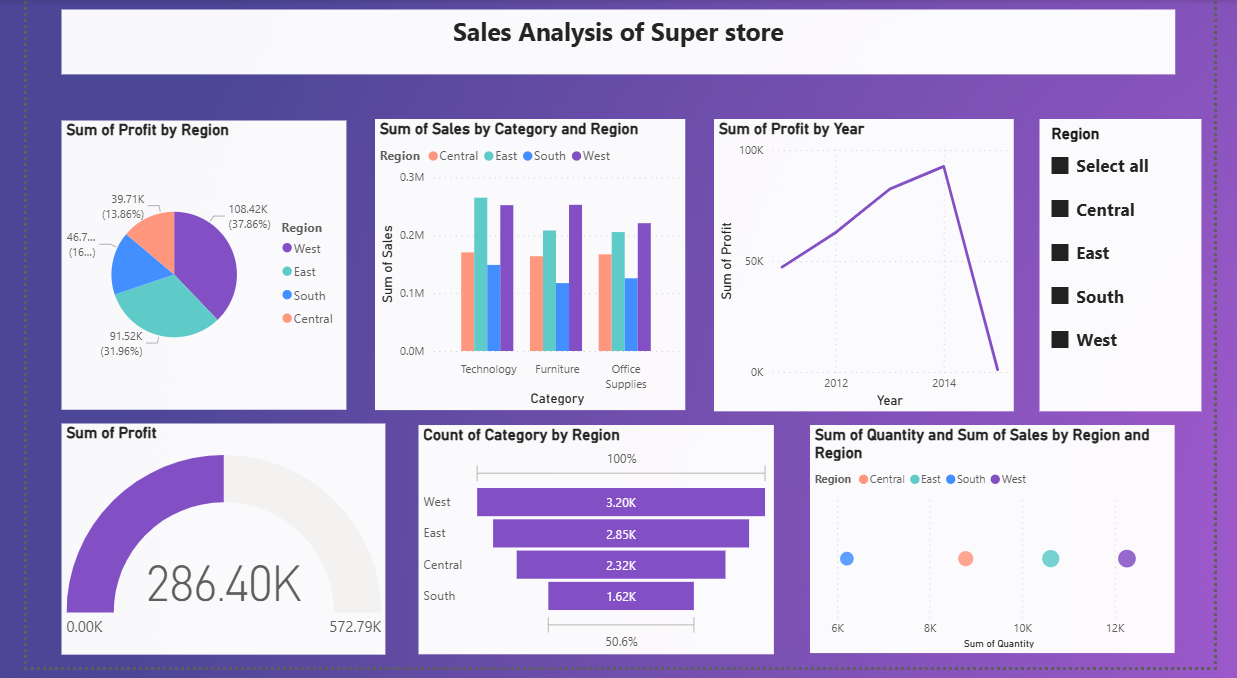

Layout of this report page (visuals, bound fields, positions):
{"tool":"powerbi","page":{"name":"Page 1","canvas":[1280,720],"ordinal":0},"visuals":[{"type":"pieChart","fields":{"Y":["Sum(Orders.Profit)"],"Category":["Orders.Region"]},"box":[37.2,131.1,307.4,312.3],"z":0},{"type":"clusteredColumnChart","fields":{"Category":["Orders.Category"],"Y":["Sum(Orders.Sales)"],"Series":["Orders.Region"]},"box":[375.4,129.4,334.9,313.9],"z":1000},{"type":"lineChart","fields":{"Category":["Orders.Ship Date.Variation.Date Hierarchy.Year"],"Y":["Sum(Orders.Profit)"]},"box":[741,129.4,323.6,315.5],"z":2000},{"type":"gauge","fields":{"Y":["Sum(Orders.Profit)"]},"box":[37.2,457.9,349.5,249.2],"z":3000},{"type":"funnel","fields":{"Category":["Orders.Region"],"Y":["CountNonNull(Orders.Category)"]},"box":[422.3,459.5,383.5,247.6],"z":4000},{"type":"scatterChart","fields":{"Size":["Sum(Orders.Sales)"],"Series":["Orders.Region"],"Category":["Orders.Region"],"X":["Sum(Orders.Quantity)"]},"box":[844.6,459.5,393.2,245.9],"z":5000},{"type":"textbox","box":[37.5,11.2,1201.2,70],"z":6000},{"type":"slicer","fields":{"Values":["Orders.Region"]},"box":[1092.1,129.4,174.7,315.5],"z":7000}]}

Visuals, with their boxes in screenshot pixels (x1, y1, x2, y2), scaled from the page's 1280x720 canvas onto the 1237x678 screenshot:
pieChart - Sum(Orders.Profit) x Orders.Region: bbox=[36, 123, 333, 418]
clusteredColumnChart - Orders.Category x Sum(Orders.Sales): bbox=[363, 122, 686, 417]
lineChart - Orders.Ship Date.Variation.Date Hierarchy.Year x Sum(Orders.Profit): bbox=[716, 122, 1029, 419]
gauge - Sum(Orders.Profit): bbox=[36, 431, 374, 666]
funnel - Orders.Region x CountNonNull(Orders.Category): bbox=[408, 433, 779, 666]
scatterChart - Sum(Orders.Sales) x Orders.Region: bbox=[816, 433, 1196, 664]
textbox: bbox=[36, 11, 1197, 76]
slicer - Orders.Region: bbox=[1055, 122, 1224, 419]
